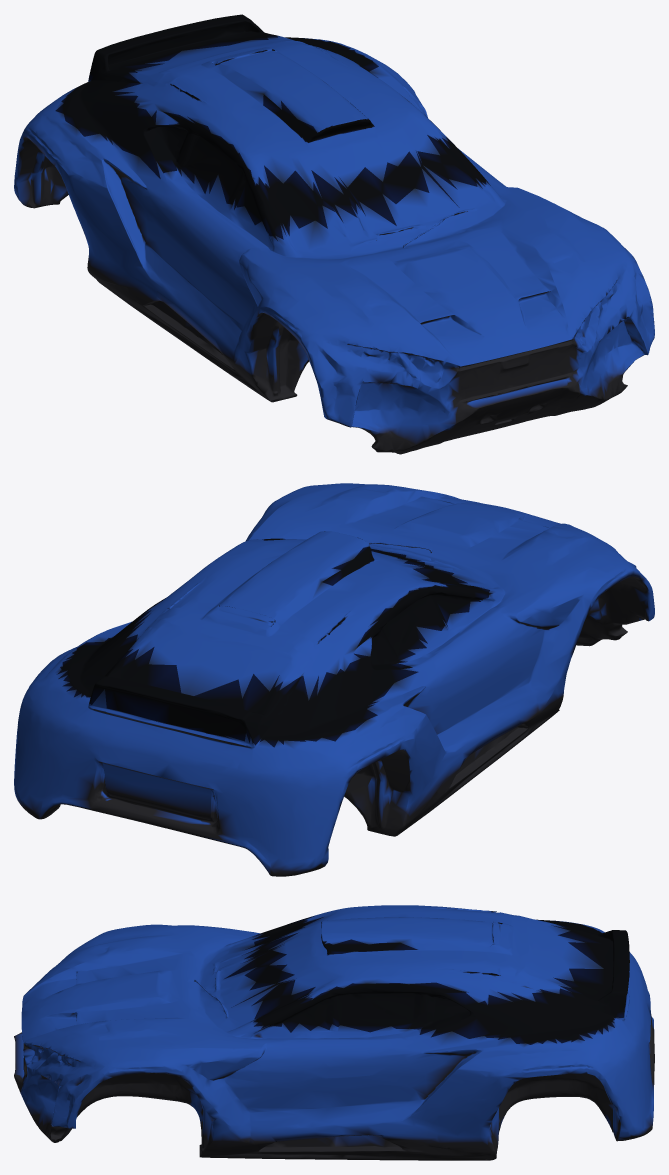
File: volt_body.glb
3 views of the same model, one above another, from view 1: azimuth 30°, elevation 25°; view 2: azimuth 150°, elevation 25°; view 3: azimuth 270°, elevation 25° (orthographic). The views are drawn at different scales.
Visible parts, largest first — view 1: body; view 2: body; view 3: body.
Boxes of the visible parts, <box> form: body: <box>14,14,654,454</box>; body: <box>14,483,654,876</box>; body: <box>14,905,654,1160</box>.
Bounding box in the file's own units: 2.41 × 1.34 × 4.45.
